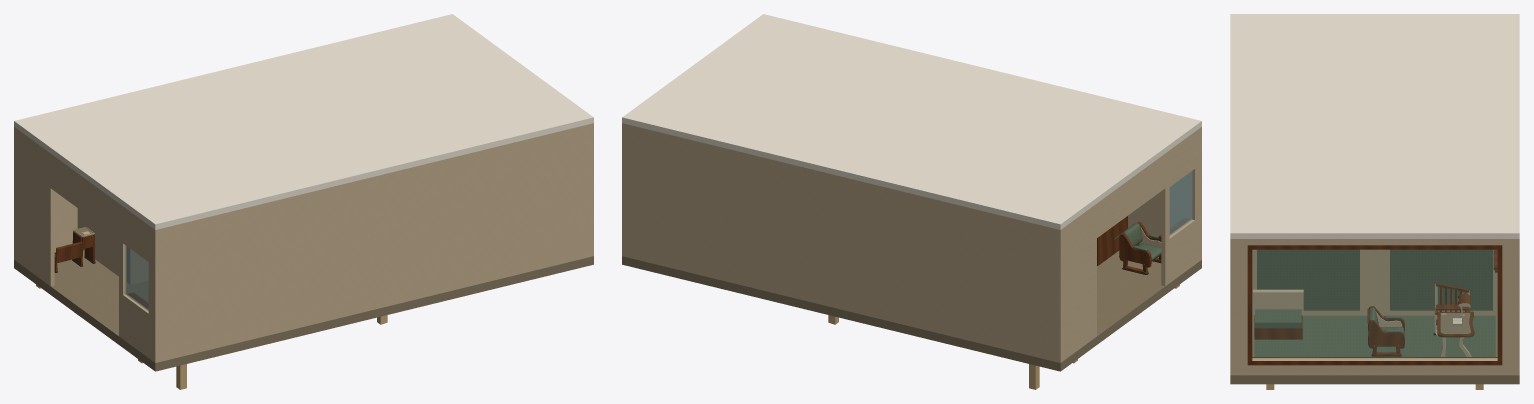
File: NG572_WarmInterior_r001.glb
3 renders of one model, left to right at view 1: azimuth 30°, elevation 25°; view 2: azimuth 150°, elevation 25°; view 3: azimuth 270°, elevation 25°, orthographic. The views are drawn at different scales.
Parts seen in each view (by area): view 1: NG572_RuntimeBatch_001, NG572_RoomFloor, NG572_ScreenedStreetGlass, NG572_RuntimeBatch_013; view 2: NG572_RuntimeBatch_001, NG572_RoomFloor, NG572_ScreenedStreetGlass, NG572_RuntimeBatch_049, NG572_RuntimeBatch_002; view 3: NG572_RuntimeBatch_001, NGP_572_PrivateViewPane, NG572_RuntimeBatch_006, NGW_572_OutlookFloorInlay, NG572_RoomFloor, NGP_572_Frame_Sill, NGP_572_Frame_Head, NGP_572_ViewSeat_Back, NG572_RuntimeBatch_028, NGP_572_ViewSeat_Cushion, NG572_RuntimeBatch_007, NGP_572_Frame_Left (+4 smaller).
Part boxes in pixels (<box>): NG572_RuntimeBatch_001: <box>14,14,593,362</box>; NG572_RoomFloor: <box>14,250,593,371</box>; NG572_ScreenedStreetGlass: <box>125,245,148,310</box>; NG572_RuntimeBatch_013: <box>54,231,95,271</box>; NG572_RuntimeBatch_001: <box>622,14,1201,362</box>; NG572_RoomFloor: <box>622,251,1201,371</box>; NG572_ScreenedStreetGlass: <box>1169,171,1192,235</box>; NG572_RuntimeBatch_049: <box>1119,221,1161,274</box>; NG572_RuntimeBatch_002: <box>1097,216,1190,265</box>; NG572_RuntimeBatch_001: <box>1230,14,1519,375</box>; NGP_572_PrivateViewPane: <box>1252,250,1497,358</box>; NG572_RuntimeBatch_006: <box>1257,249,1492,310</box>; NGW_572_OutlookFloorInlay: <box>1254,315,1495,356</box>; NG572_RoomFloor: <box>1230,249,1519,384</box>; NGP_572_Frame_Sill: <box>1247,357,1502,365</box>; NGP_572_Frame_Head: <box>1247,245,1502,249</box>; NGP_572_ViewSeat_Back: <box>1253,289,1303,315</box>; NG572_RuntimeBatch_028: <box>1367,306,1404,355</box>; NGP_572_ViewSeat_Cushion: <box>1255,309,1301,328</box>; NG572_RuntimeBatch_007: <box>1435,283,1474,337</box>; NGP_572_Frame_Left: <box>1497,249,1502,360</box>.
Size of the model in its own units: 12.9 by 5.31 by 7.2.
Materials: 45 (20 with a texture image).
